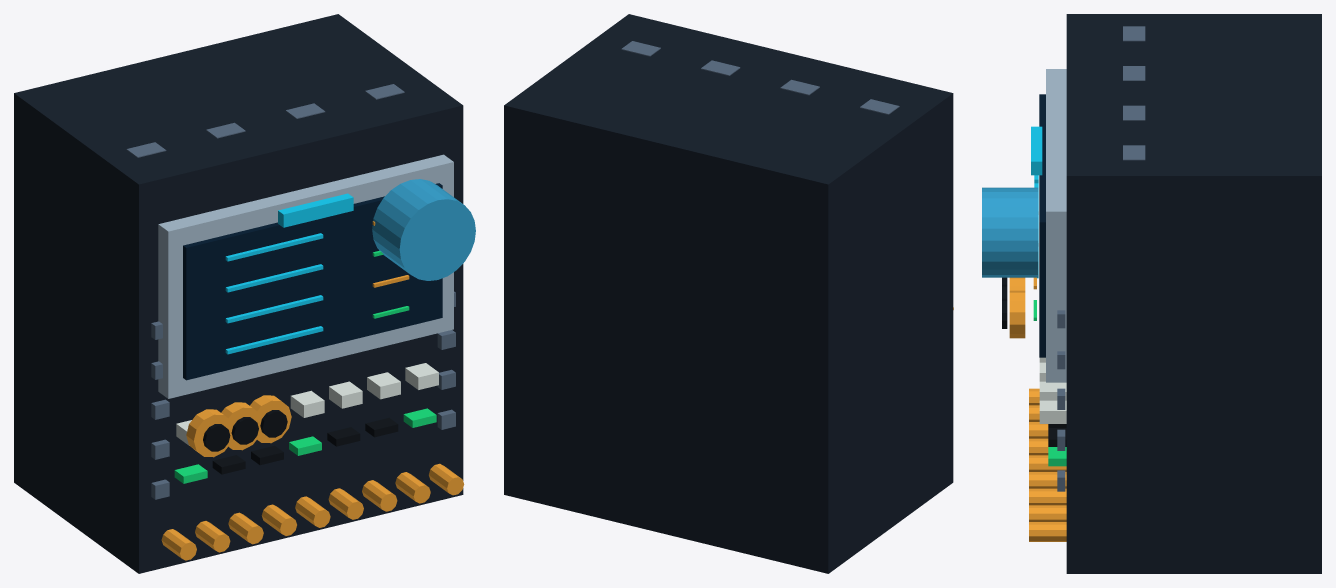
Rendered from 35_L88_OxygenPartialPressureAnalyzer.fbx.
3 views of the same model, side by side, from view 1: azimuth 30°, elevation 25°; view 2: azimuth 150°, elevation 25°; view 3: azimuth 270°, elevation 25° (orthographic). The views are drawn at different scales.
Visible parts, largest first — view 1: L87_OxygenPartialPressureAnalyzer_Part_0000, L87_OxygenPartialPressureAnalyzer_Part_0002, L87_OxygenPartialPressureAnalyzer_Part_0001, L87_OxygenPartialPressureAnalyzer_Part_0009, L87_OxygenPartialPressureAnalyzer_Part_0004, L87_OxygenPartialPressureAnalyzer_Part_0008, L87_OxygenPartialPressureAnalyzer_Part_0006, L87_OxygenPartialPressureAnalyzer_Part_0003, L87_OxygenPartialPressureAnalyzer_Part_0007, L87_OxygenPartialPressureAnalyzer_Part_0005, L87_OxygenPartialPressureAnalyzer_Part_0010, L87_OxygenPartialPressureAnalyzer_Part_0011 (+5 smaller); view 2: L87_OxygenPartialPressureAnalyzer_Part_0000, L87_OxygenPartialPressureAnalyzer_Part_0008; view 3: L87_OxygenPartialPressureAnalyzer_Part_0000, L87_OxygenPartialPressureAnalyzer_Part_0001, L87_OxygenPartialPressureAnalyzer_Part_0009, L87_OxygenPartialPressureAnalyzer_Part_0004, L87_OxygenPartialPressureAnalyzer_Part_0008, L87_OxygenPartialPressureAnalyzer_Part_0002, L87_OxygenPartialPressureAnalyzer_Part_0006, L87_OxygenPartialPressureAnalyzer_Part_0015, L87_OxygenPartialPressureAnalyzer_Part_0010, L87_OxygenPartialPressureAnalyzer_Part_0005.
Boxes of the visible parts, box(x1,y1,x2,y2) form: L87_OxygenPartialPressureAnalyzer_Part_0000: box(14, 14, 463, 573); L87_OxygenPartialPressureAnalyzer_Part_0002: box(183, 183, 442, 380); L87_OxygenPartialPressureAnalyzer_Part_0001: box(158, 154, 453, 398); L87_OxygenPartialPressureAnalyzer_Part_0009: box(372, 179, 475, 280); L87_OxygenPartialPressureAnalyzer_Part_0004: box(161, 221, 464, 560); L87_OxygenPartialPressureAnalyzer_Part_0008: box(126, 84, 455, 499); L87_OxygenPartialPressureAnalyzer_Part_0006: box(176, 363, 438, 445); L87_OxygenPartialPressureAnalyzer_Part_0003: box(225, 233, 323, 354); L87_OxygenPartialPressureAnalyzer_Part_0007: box(212, 417, 398, 474); L87_OxygenPartialPressureAnalyzer_Part_0005: box(174, 250, 436, 483); L87_OxygenPartialPressureAnalyzer_Part_0010: box(278, 193, 353, 227); L87_OxygenPartialPressureAnalyzer_Part_0011: box(186, 409, 232, 457); L87_OxygenPartialPressureAnalyzer_Part_0000: box(504, 14, 953, 573); L87_OxygenPartialPressureAnalyzer_Part_0008: box(621, 41, 899, 114); L87_OxygenPartialPressureAnalyzer_Part_0000: box(1066, 14, 1321, 573); L87_OxygenPartialPressureAnalyzer_Part_0001: box(1046, 69, 1066, 382); L87_OxygenPartialPressureAnalyzer_Part_0009: box(982, 187, 1038, 277); L87_OxygenPartialPressureAnalyzer_Part_0004: box(1029, 277, 1066, 541); L87_OxygenPartialPressureAnalyzer_Part_0008: box(1057, 26, 1145, 491); L87_OxygenPartialPressureAnalyzer_Part_0002: box(1039, 94, 1045, 357); L87_OxygenPartialPressureAnalyzer_Part_0006: box(1039, 357, 1066, 423); L87_OxygenPartialPressureAnalyzer_Part_0015: box(1009, 290, 1025, 338); L87_OxygenPartialPressureAnalyzer_Part_0010: box(1031, 126, 1042, 175); L87_OxygenPartialPressureAnalyzer_Part_0005: box(1033, 300, 1066, 466).
Bounding box in the file's own units: 104 × 120 × 92.31.
